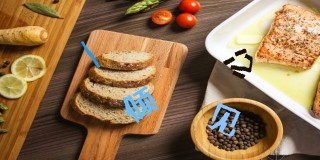一: (78, 41, 99, 68)
倾: (123, 86, 160, 125)
心: (223, 47, 253, 79)
见: (209, 101, 239, 136)
